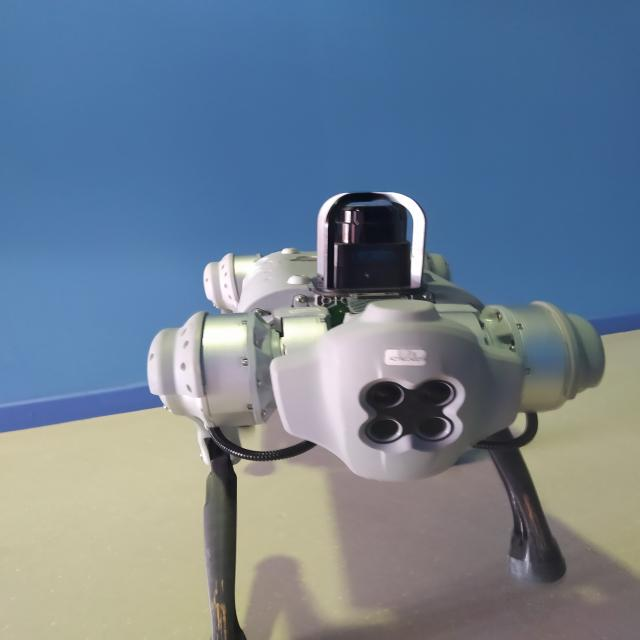unitree-go1-robot: (150, 194, 640, 639)
